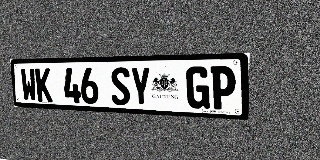4: (63, 68, 81, 103)
6: (80, 68, 99, 104)
G: (186, 66, 210, 109)
K: (35, 68, 53, 102)
P: (211, 66, 236, 110)
S: (110, 67, 131, 106)
W: (20, 68, 37, 102)
Y: (130, 67, 151, 106)
